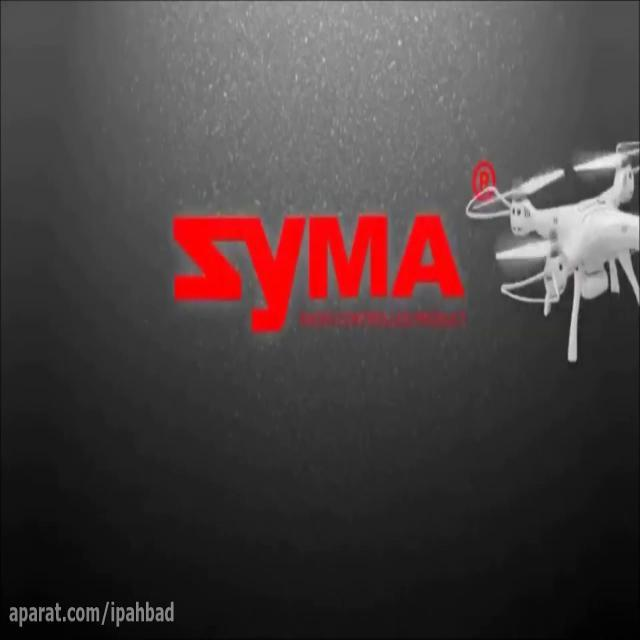drone: (462, 140, 640, 360)
